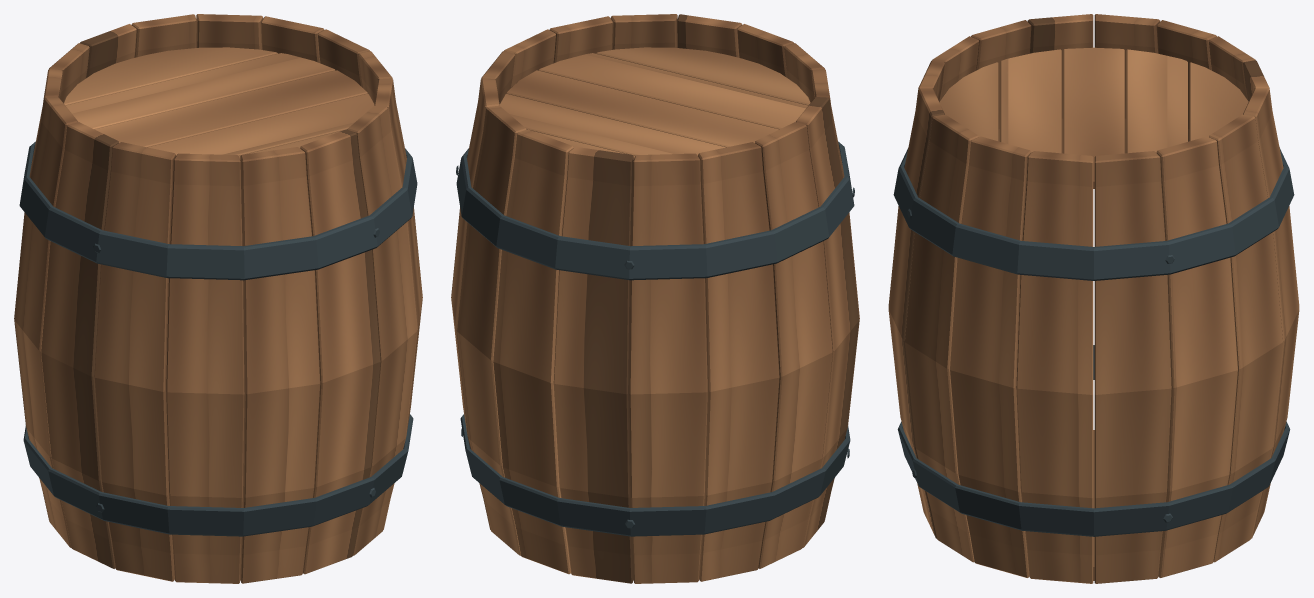
The model's file is aether_wooden_barrel_v01.glb.
3 views of the same model, side by side, from view 1: azimuth 30°, elevation 25°; view 2: azimuth 150°, elevation 25°; view 3: azimuth 270°, elevation 25° (orthographic).
Visible parts, largest first — view 1: aether_wooden_barrel_v01; view 2: aether_wooden_barrel_v01; view 3: aether_wooden_barrel_v01.
Part boxes in pixels (x1,y1,x2,y2): aether_wooden_barrel_v01: (14,14,422,583); aether_wooden_barrel_v01: (451,14,859,583); aether_wooden_barrel_v01: (888,14,1299,583).
Size of the model in its own units: 0.9288 by 1.06 by 0.9288.
2 materials, 1 textured.
